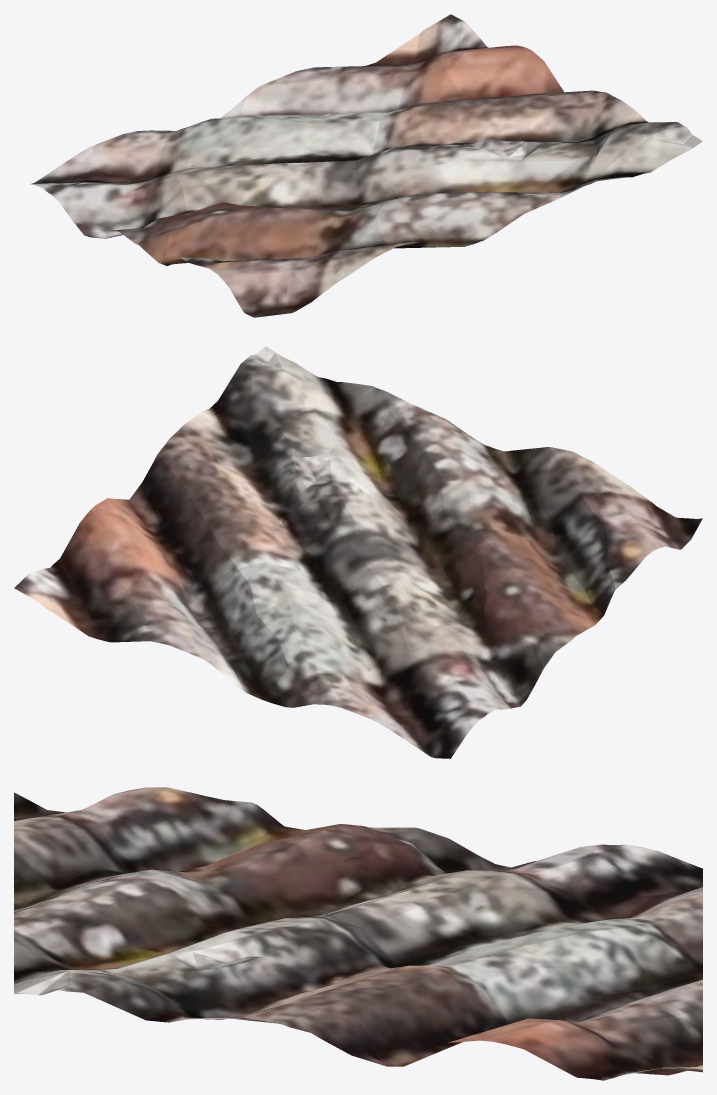
3 views of the same model, one above another, from view 1: azimuth 30°, elevation 25°; view 2: azimuth 150°, elevation 25°; view 3: azimuth 270°, elevation 25° (orthographic). The views are drawn at different scales.
Bounding box in the file's own units: 0.8374 × 0.2331 × 0.8373.
3 materials, 3 textured.
